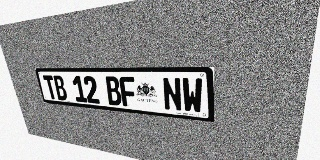1: (71, 76, 88, 103)
2: (83, 76, 100, 104)
B: (104, 76, 122, 106), (52, 75, 68, 101)
F: (119, 77, 138, 107)
N: (162, 77, 182, 112)
T: (43, 75, 58, 100)
W: (181, 78, 203, 114)
